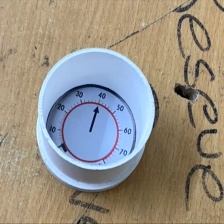gauge: (46, 86, 136, 165)
